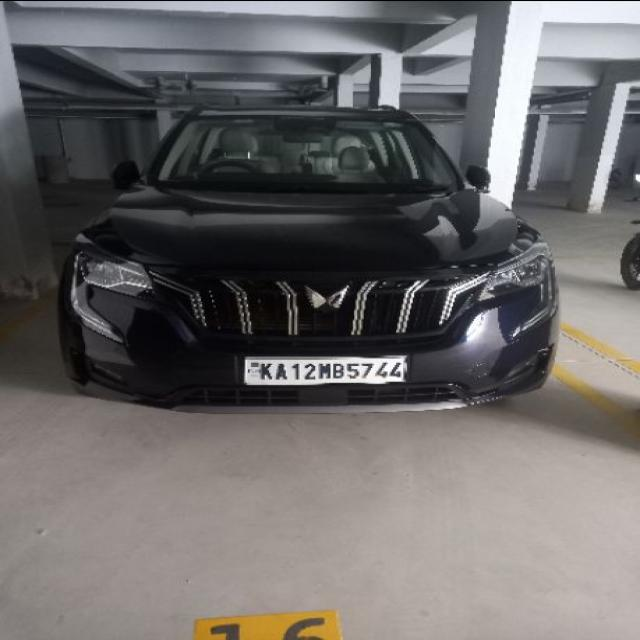license_plate: (240, 352, 411, 386)
